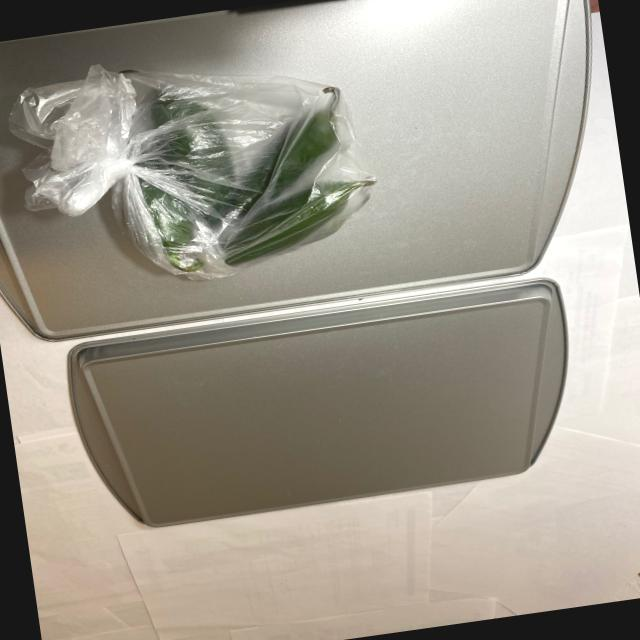chilli: (92, 35, 384, 291)
